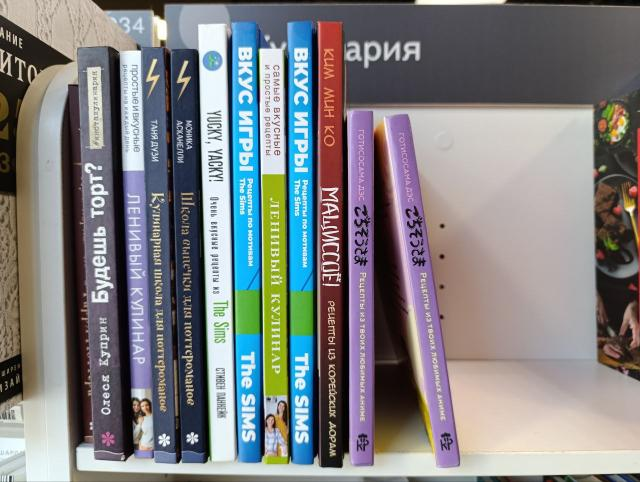book-s-spine: (385, 113, 461, 468), (78, 46, 125, 462), (199, 24, 236, 461), (142, 47, 177, 464), (171, 48, 205, 463), (120, 51, 154, 459), (232, 22, 262, 463), (259, 48, 289, 464), (287, 21, 314, 465), (318, 21, 343, 468), (348, 110, 373, 467)
